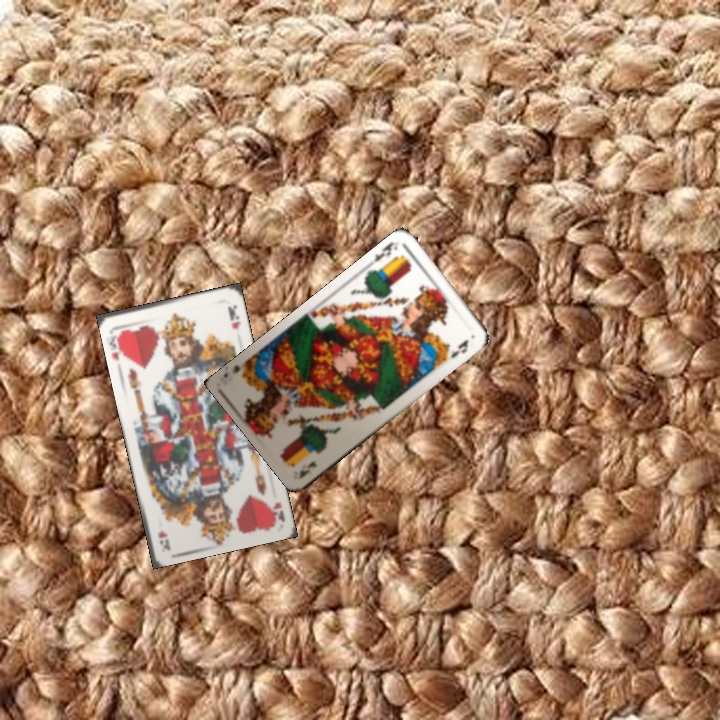EK: (370, 237, 401, 264), (295, 457, 319, 480)
HK: (105, 325, 129, 364), (266, 498, 287, 525)
